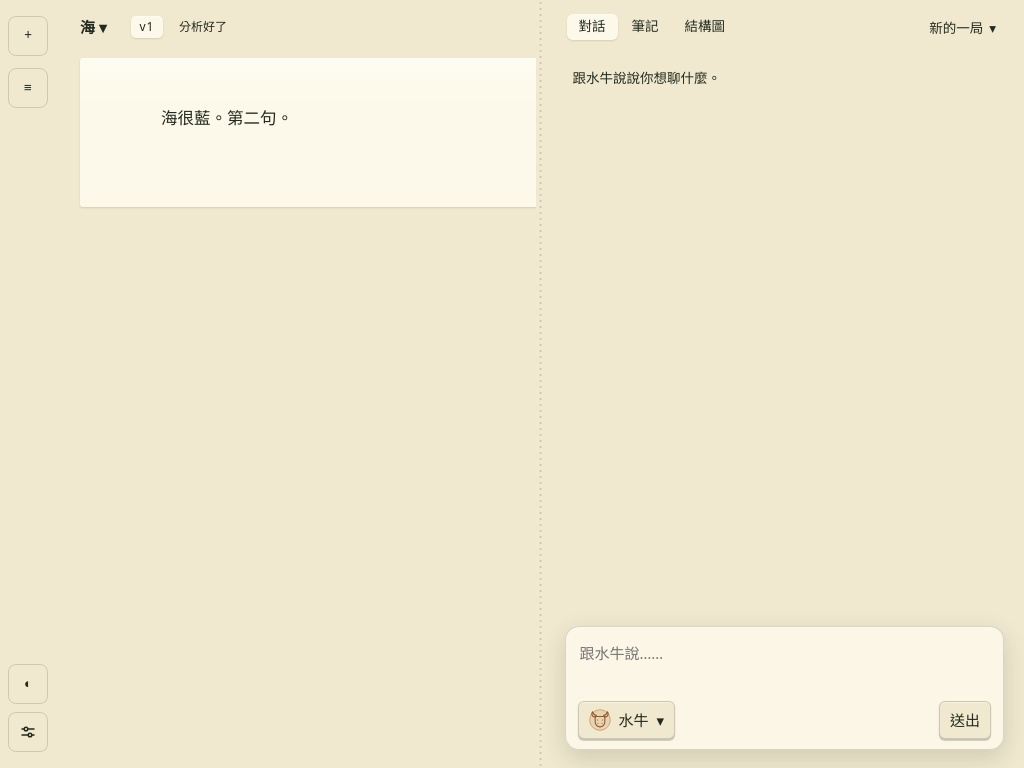
邊說邊畫線 › 減動:痕跡直接到終態,沒有 is-drawing
Check: the text "海很藍。第二句。" is shown, box [161,109,293,128]
Type "看看" into the text box named "對話輸入" at (784, 665), box [578,637,991,693]
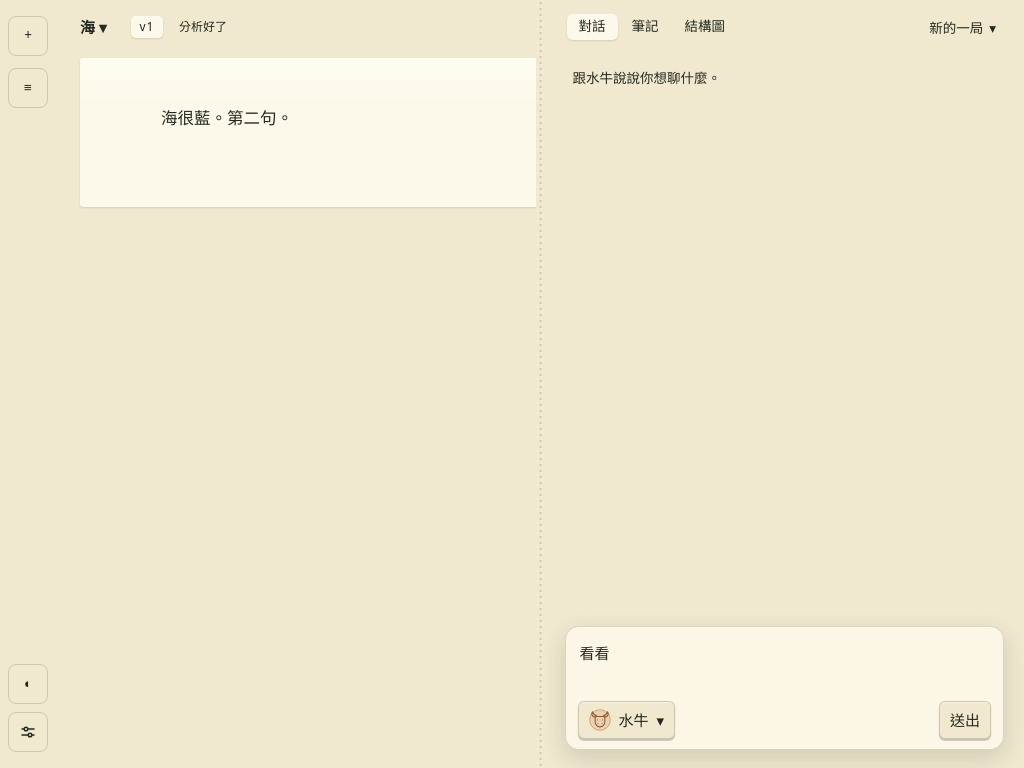
Click the button "送出" at (965, 720), box [939,701,991,739]
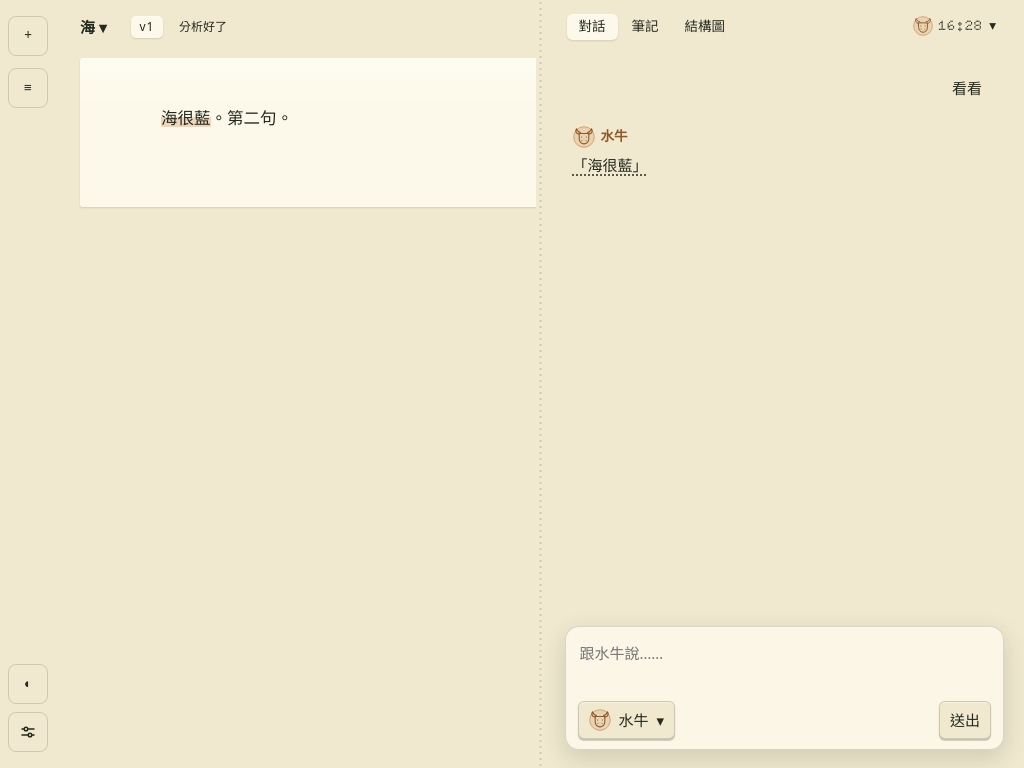
Check: the button "「海很藍」" is shown, box [572,152,648,179]
